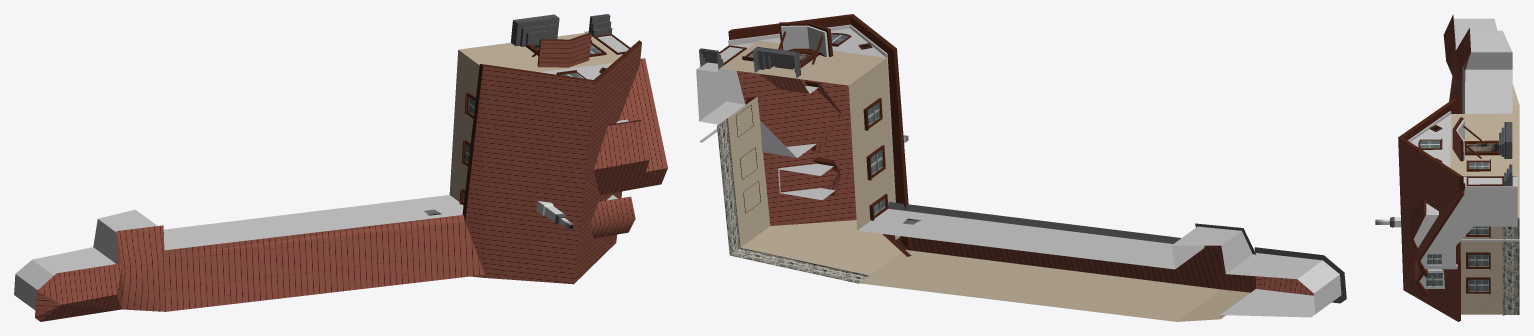
File: Inseneri_2_2.obj
3 renders of one model, left to right at view 1: azimuth 30°, elevation 25°; view 2: azimuth 150°, elevation 25°; view 3: azimuth 270°, elevation 25°, orthographic. The views are drawn at different scales.
Parts seen in each view (by area): view 1: Inseneri_2_2; view 2: Inseneri_2_2; view 3: Inseneri_2_2.
Boxes of the visible parts, x1,y1,x2,y2 form: Inseneri_2_2: [14, 14, 667, 321]; Inseneri_2_2: [696, 14, 1346, 321]; Inseneri_2_2: [1375, 14, 1519, 321].
Size of the model in its own units: 36.75 by 12.49 by 9.29.
